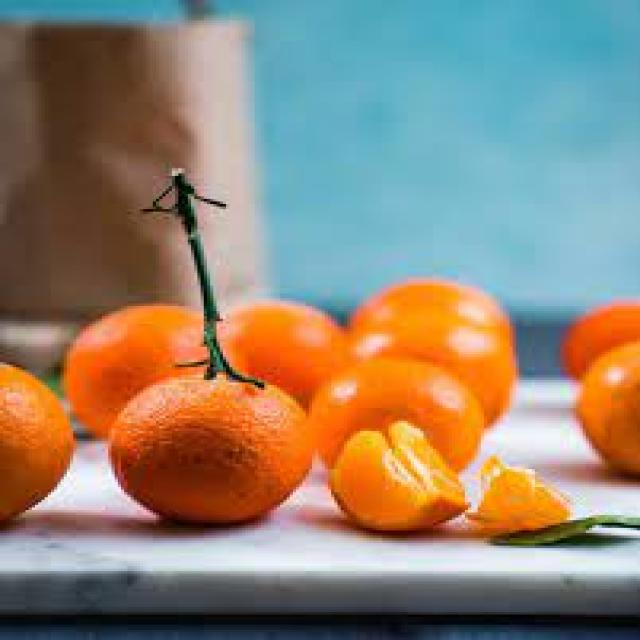orange: (101, 368, 306, 532)
